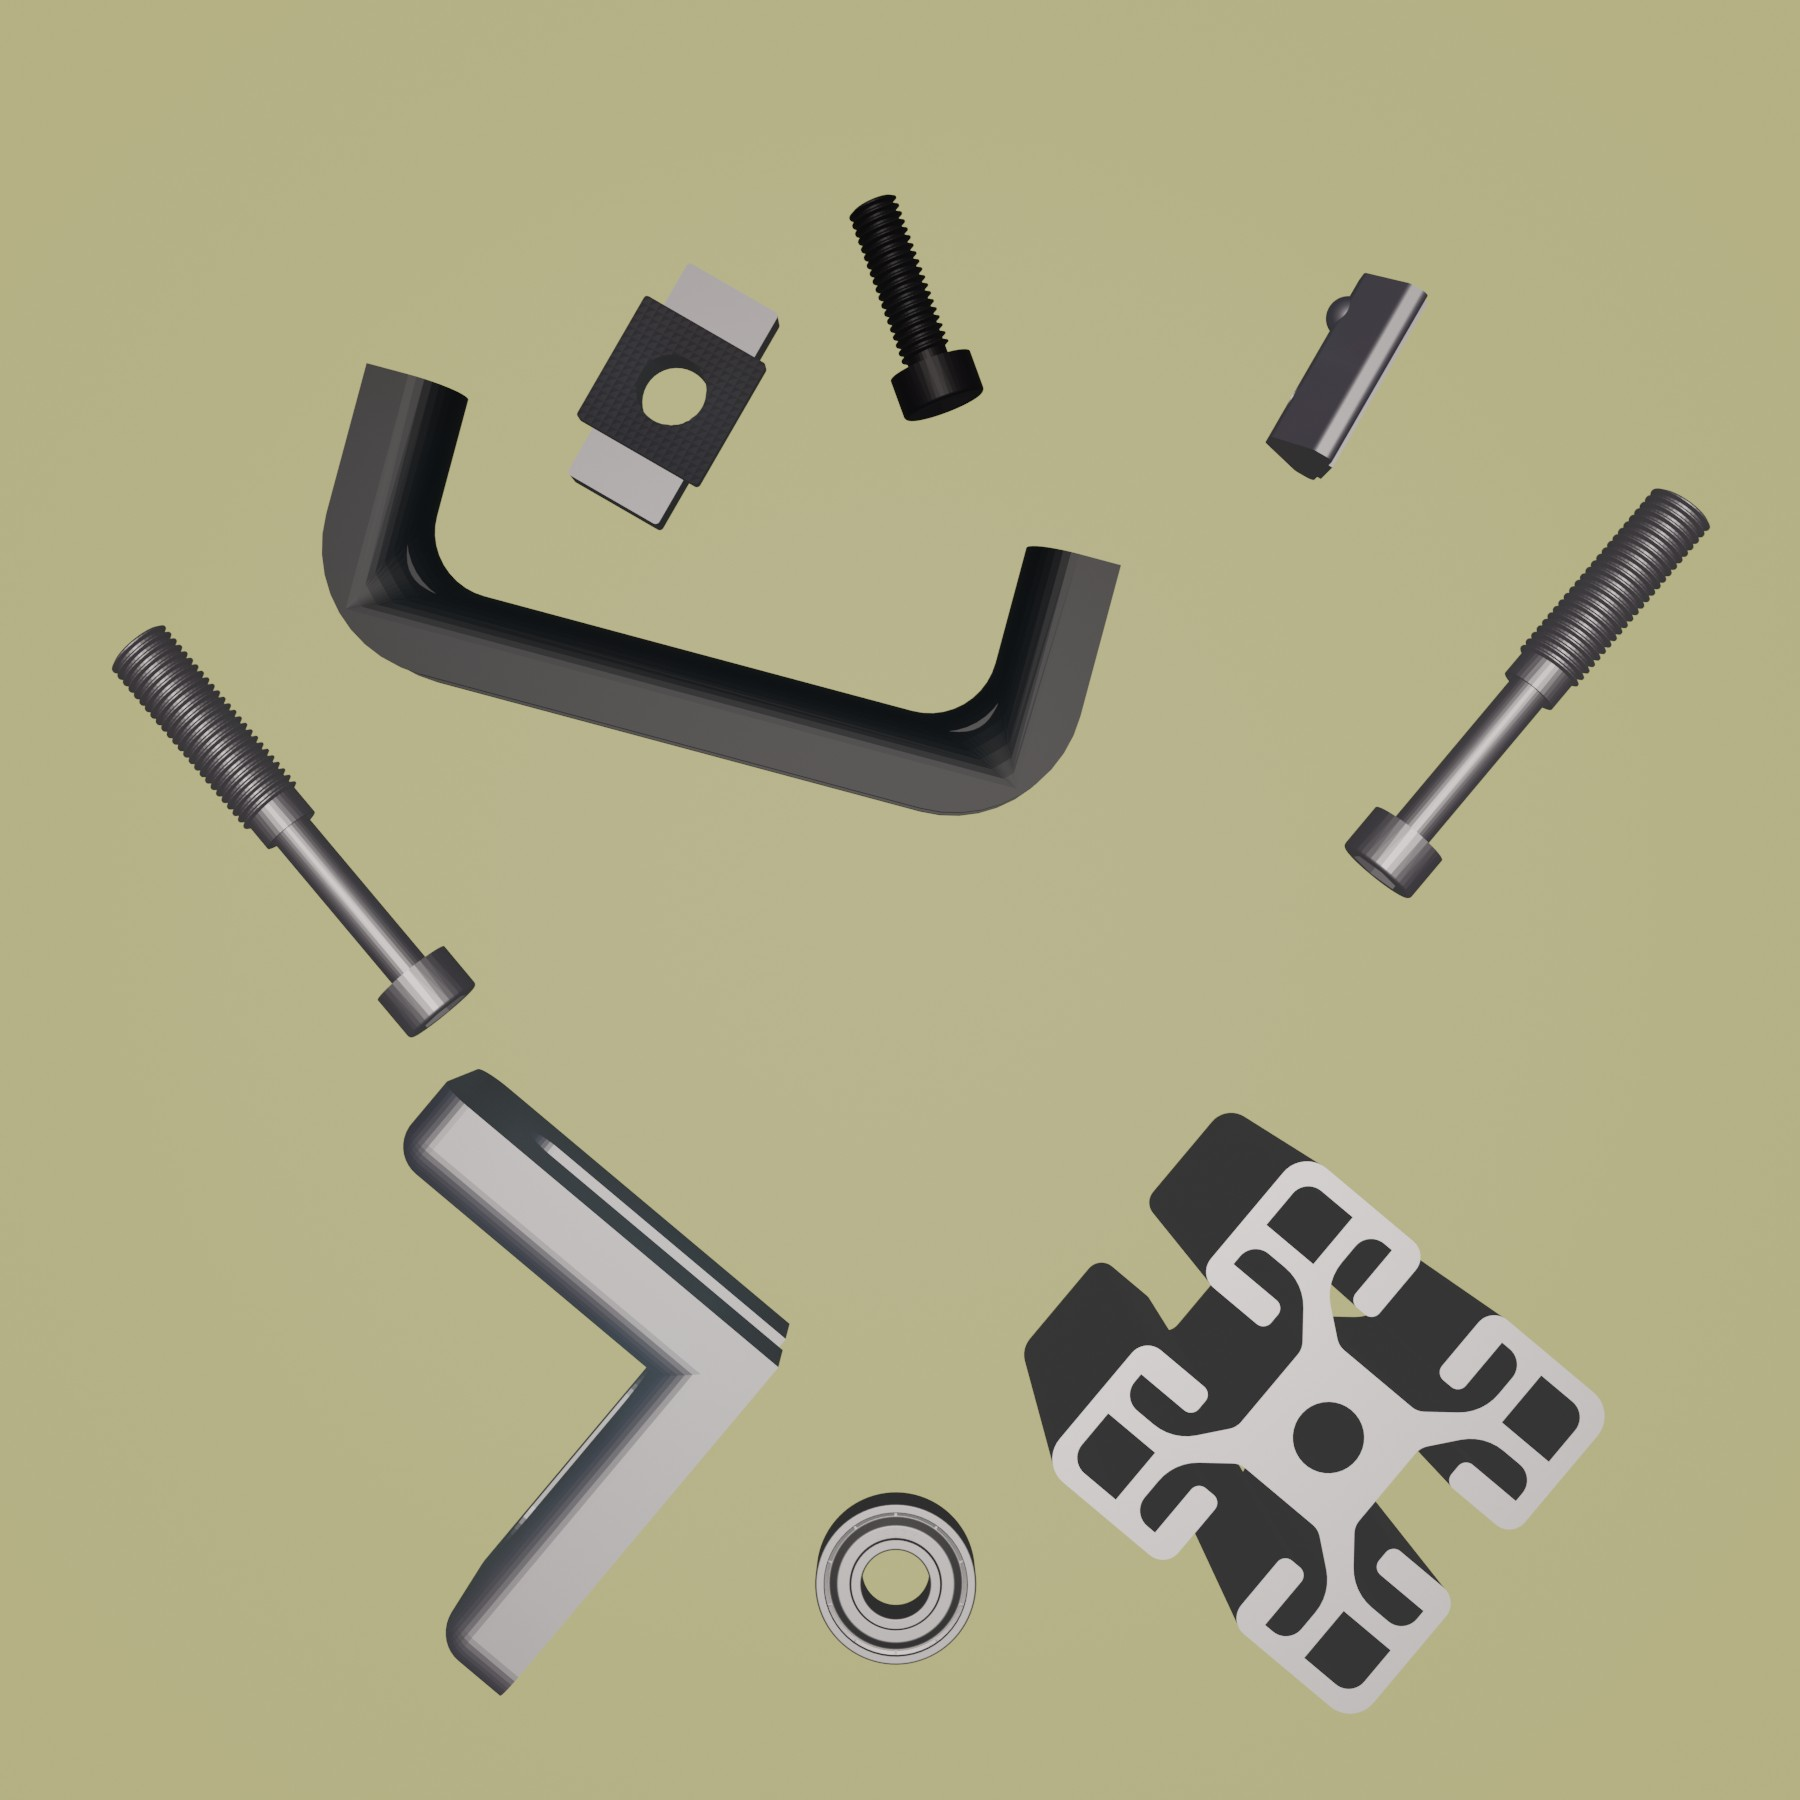Aluminium Extension: (1020, 1109, 1609, 1718)
Ball Bearing: (811, 1488, 979, 1670)
Multiwinkel: (401, 1066, 791, 1696)
Pull Handle: (316, 358, 1124, 818)
Shoulder Socket Head Cap Screw: (1342, 485, 1714, 903), (109, 620, 478, 1038)
Socket Head Cap Screw: (846, 191, 986, 424)
T Nut Square: (567, 257, 783, 532)
T Spring Nut: (1264, 270, 1429, 485)
